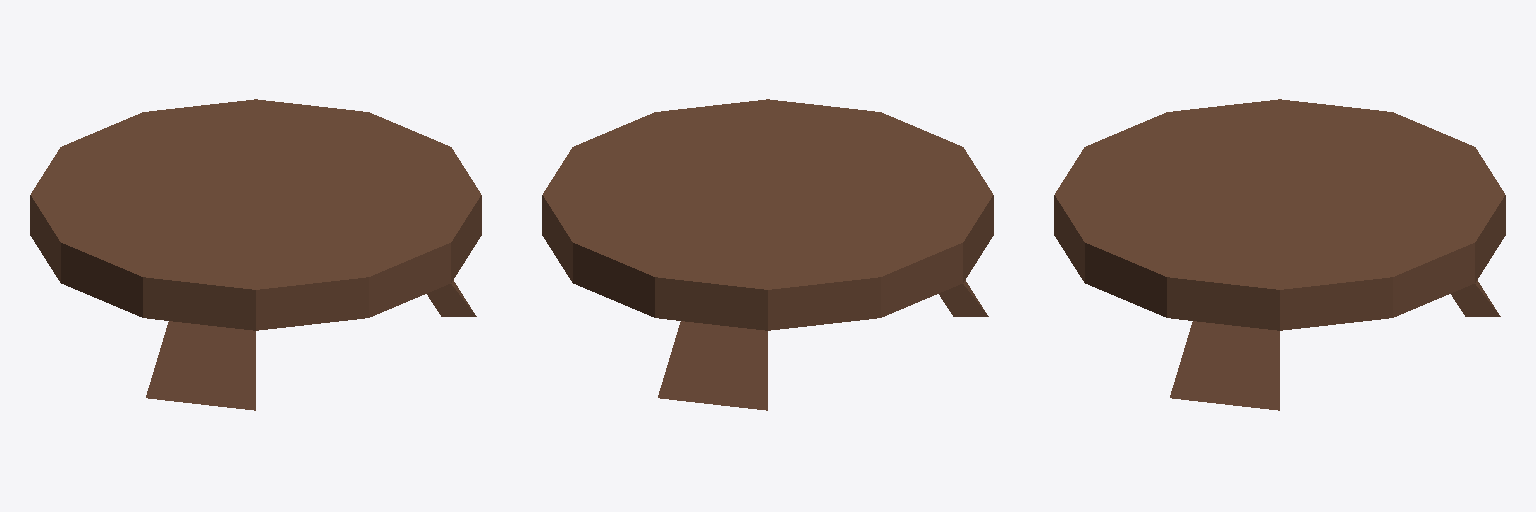
The model's file is stool.obj.
3 renders of one model, left to right at view 1: azimuth 30°, elevation 25°; view 2: azimuth 150°, elevation 25°; view 3: azimuth 270°, elevation 25°, orthographic.
Visible parts, largest first — view 1: stool_mesh_Cylinder; view 2: stool_mesh_Cylinder; view 3: stool_mesh_Cylinder.
Boxes of the visible parts, <box> form: stool_mesh_Cylinder: <box>30,99,481,410</box>; stool_mesh_Cylinder: <box>542,99,993,410</box>; stool_mesh_Cylinder: <box>1054,99,1505,410</box>.
Size of the model in its own units: 0.5 by 0.15 by 0.5.